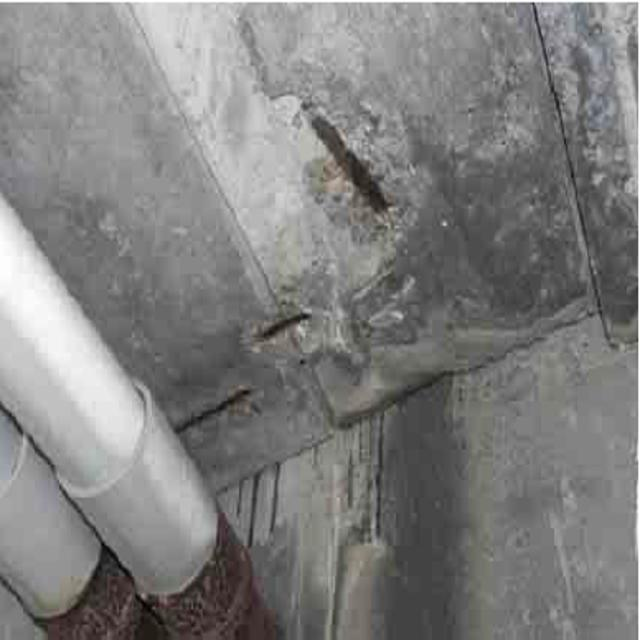spalling: (173, 293, 394, 447), (276, 74, 441, 270)
